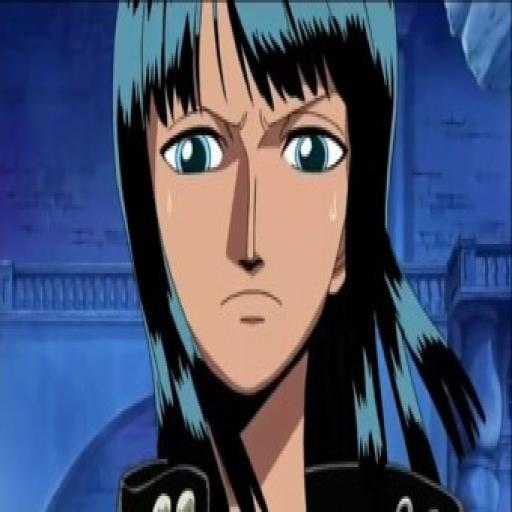NicoRobin: (105, 0, 414, 410)
